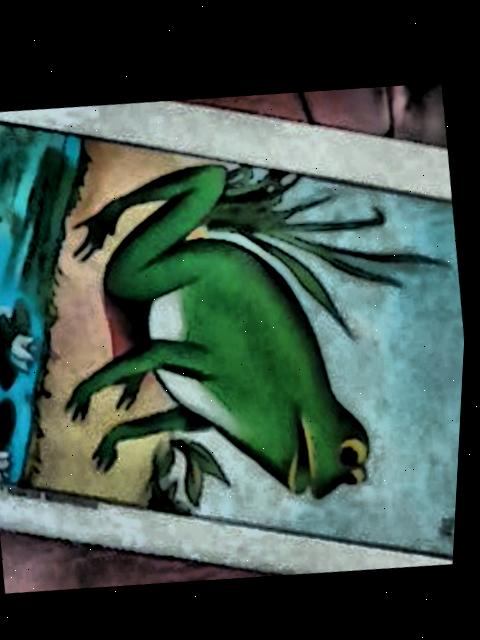La Rana: (0, 122, 468, 550)
